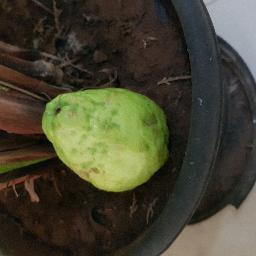Good_guava: (41, 78, 167, 198)
